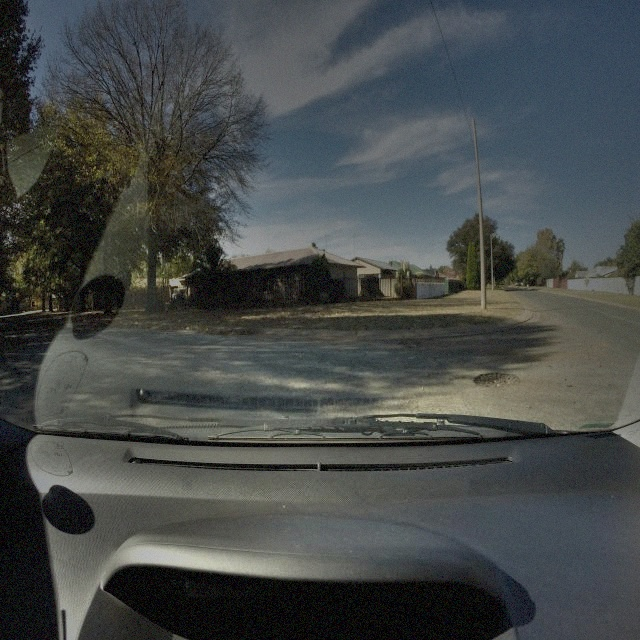pothole: (472, 368, 522, 387)
